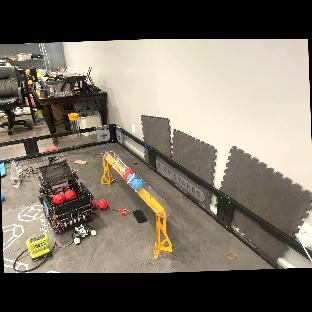V5_BLUE: (1, 192, 5, 203)
V5_RED: (51, 192, 65, 206), (96, 197, 110, 210), (64, 190, 77, 200), (92, 200, 96, 209)
blueingoal: (132, 177, 143, 191), (127, 173, 137, 184)
redingoal: (122, 167, 132, 179)
